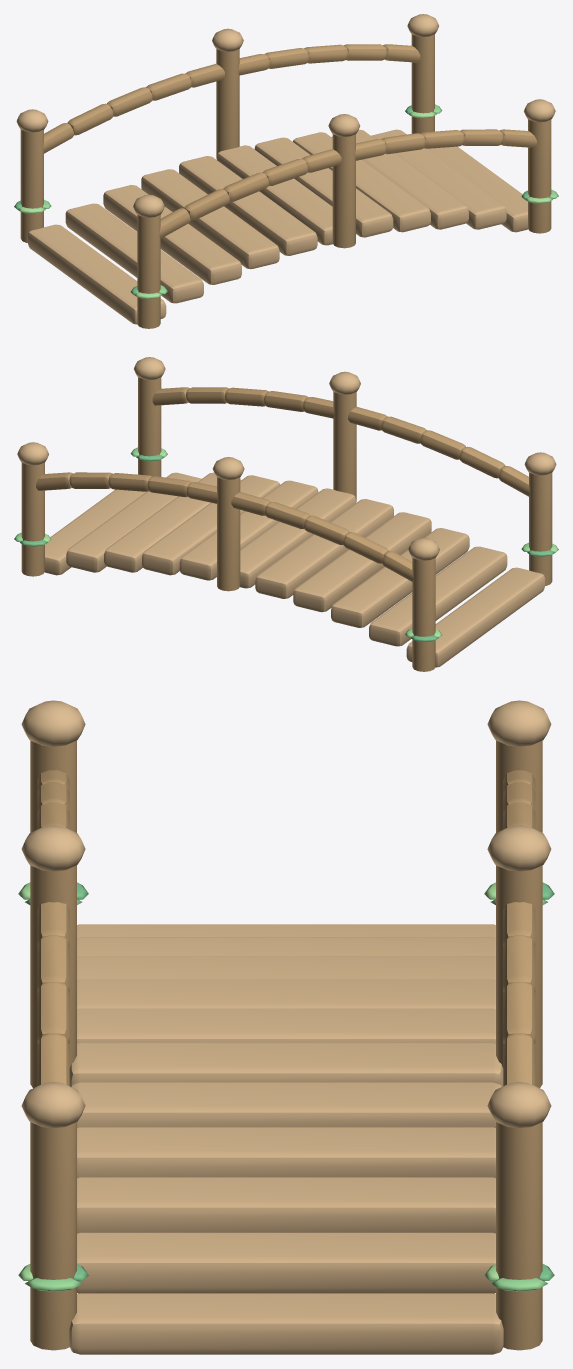
Rendered from bridge_summer_v1.glb.
The picture shows the model from 3 angles, top to bottom: view 1: azimuth 30°, elevation 25°; view 2: azimuth 150°, elevation 25°; view 3: azimuth 270°, elevation 25°; orthographic projection. The views are drawn at different scales.
Size of the model in its own units: 3.35 by 1.25 by 1.84.
